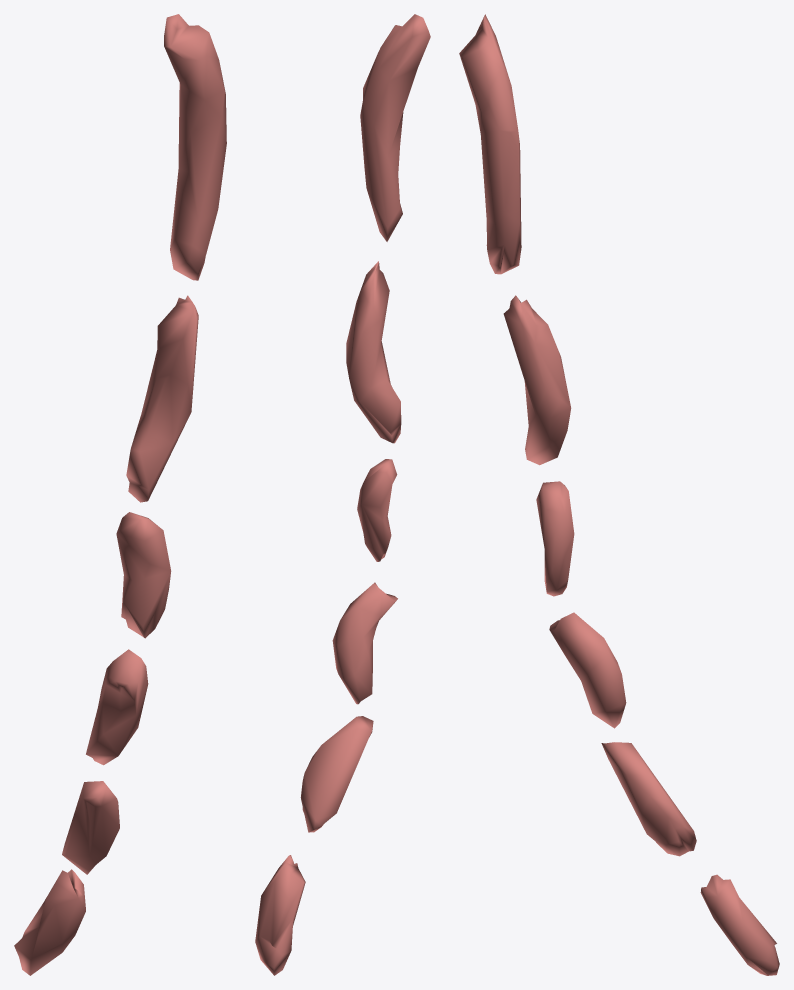
The picture shows the model from 3 angles, left to right: view 1: azimuth 30°, elevation 25°; view 2: azimuth 150°, elevation 25°; view 3: azimuth 270°, elevation 25°; orthographic projection. The views are drawn at different scales.
Visible parts, largest first — view 1: ZA_c19f946a611d4a7b; view 2: ZA_c19f946a611d4a7b; view 3: ZA_c19f946a611d4a7b.
Boxes of the visible parts, x1,y1,x2,y2 form: ZA_c19f946a611d4a7b: (14, 14, 226, 975); ZA_c19f946a611d4a7b: (255, 14, 430, 975); ZA_c19f946a611d4a7b: (459, 14, 779, 975).
Bounding box in the file's own units: 0.00681 × 0.0903 × 0.0275.
